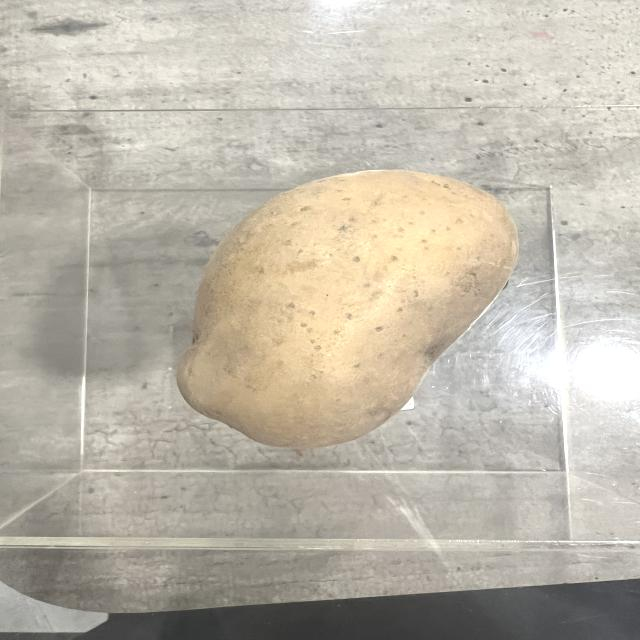potato: (170, 174, 522, 444)
